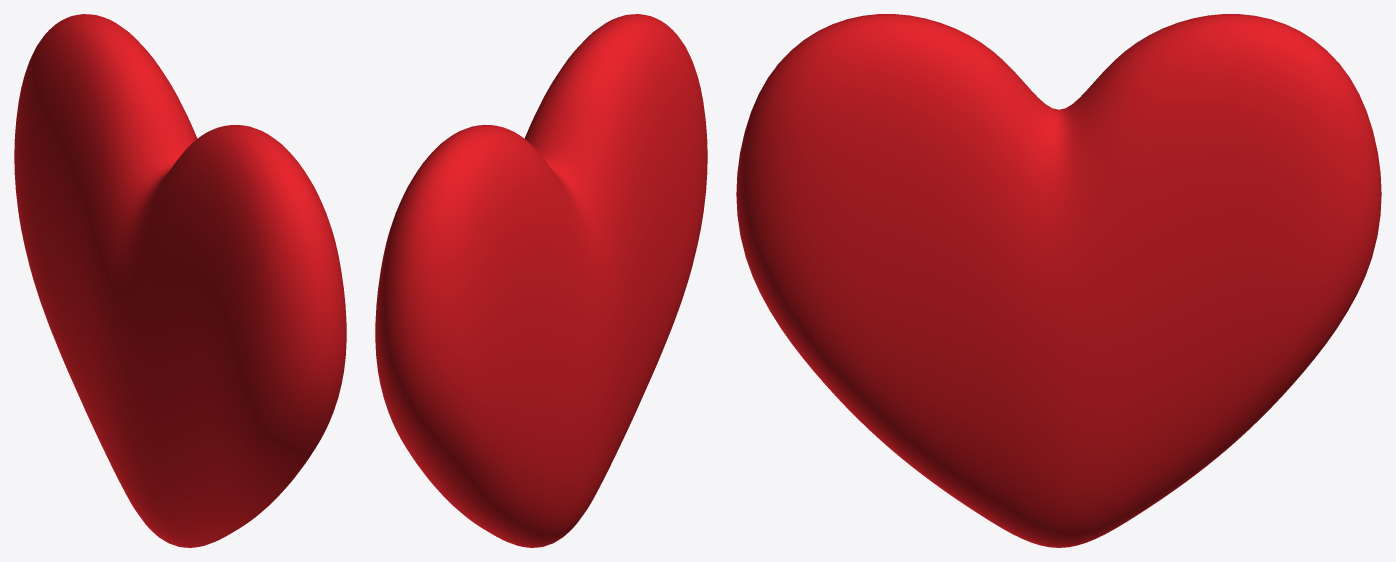
File: HEART.fbx
3 views of the same model, side by side, from view 1: azimuth 30°, elevation 25°; view 2: azimuth 150°, elevation 25°; view 3: azimuth 270°, elevation 25° (orthographic). The views are drawn at different scales.
Visible parts, largest first — view 1: heart_v1.0; view 2: heart_v1.0; view 3: heart_v1.0.
Boxes of the visible parts, x1,y1,x2,y2 form: heart_v1.0: [14, 14, 346, 547]; heart_v1.0: [375, 14, 707, 547]; heart_v1.0: [736, 14, 1381, 547].
Bounding box in the file's own units: 28.42 × 99.34 × 111.
